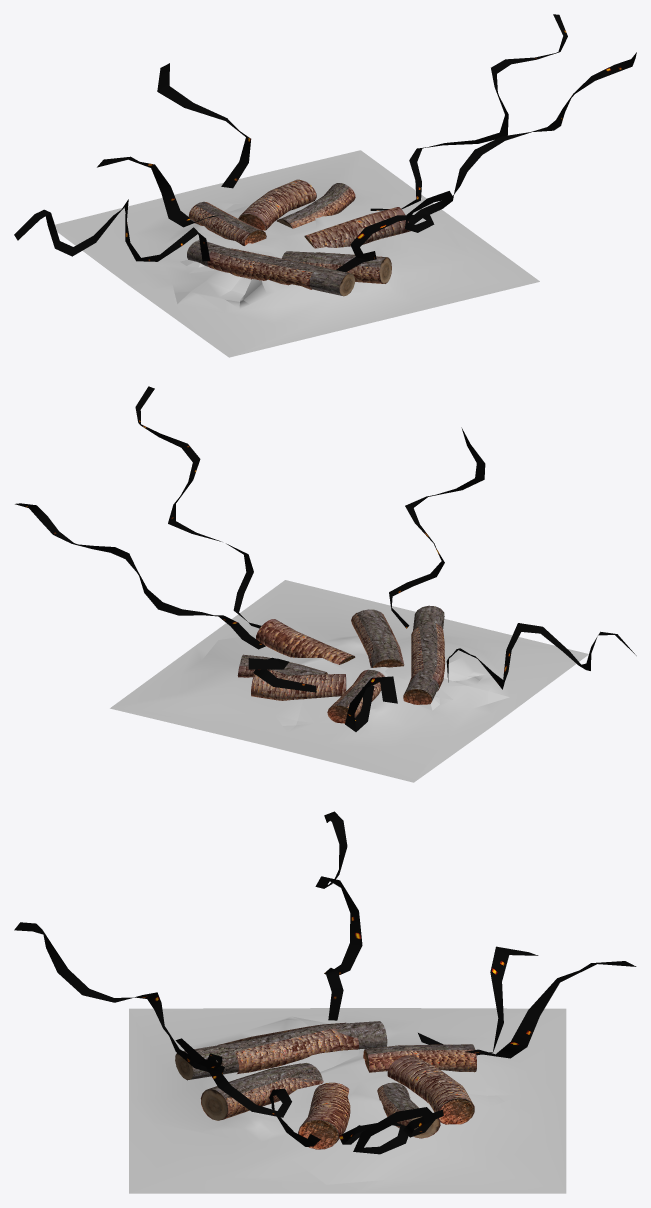
The model's file is Campfire.fbx.
The picture shows the model from 3 angles, top to bottom: view 1: azimuth 30°, elevation 25°; view 2: azimuth 150°, elevation 25°; view 3: azimuth 270°, elevation 25°; orthographic projection. The views are drawn at different scales.
Visible parts, largest first — view 1: Embers, Logs_02, Sparks_08, Logs_04, Logs_03, Sparks_06, Sparks_04, Sparks_010, Logs_06, Logs_01, Sparks_02, Logs_05 (+2 smaller); view 2: Embers, Logs_02, Logs_04, Logs_03, Logs_06, Sparks_010, Sparks_06, Sparks_04, Sparks_08, Sparks_012, Sparks_02, Logs_01 (+1 smaller); view 3: Embers, Logs_02, Logs_06, Logs_03, Logs_01, Sparks_08, Sparks_010, Sparks_06, Sparks_04, Logs_04, Sparks_02, Sparks_012 (+6 smaller).
Boxes of the visible parts, box(x1,y1,x2,y2) form: Embers: box(55, 150, 539, 357); Logs_02: box(187, 240, 350, 295); Sparks_08: box(14, 199, 210, 261); Logs_04: box(305, 207, 410, 248); Logs_03: box(238, 179, 316, 229); Sparks_06: box(408, 52, 636, 224); Sparks_04: box(336, 191, 453, 271); Sparks_010: box(370, 14, 567, 210); Logs_06: box(282, 251, 391, 283); Logs_01: box(188, 201, 266, 245); Sparks_02: box(157, 63, 251, 188); Logs_05: box(277, 183, 355, 228); Embers: box(110, 580, 588, 782); Logs_02: box(404, 605, 444, 700); Logs_04: box(256, 619, 354, 664); Logs_03: box(251, 673, 346, 700); Logs_06: box(351, 609, 404, 667); Sparks_010: box(15, 503, 265, 649); Sparks_06: box(135, 386, 261, 628); Sparks_04: box(389, 427, 485, 628); Sparks_08: box(446, 623, 636, 689); Sparks_012: box(345, 676, 397, 731); Sparks_02: box(248, 657, 316, 692); Logs_01: box(327, 669, 384, 718); Embers: box(129, 1008, 566, 1193); Logs_02: box(183, 1021, 387, 1079); Logs_06: box(200, 1063, 323, 1120); Logs_03: box(387, 1055, 474, 1123); Logs_01: box(364, 1044, 476, 1072); Sparks_08: box(315, 811, 362, 1020); Sparks_010: box(338, 1107, 443, 1154); Sparks_06: box(175, 1038, 320, 1146); Sparks_04: box(14, 922, 224, 1073); Logs_04: box(298, 1082, 350, 1149); Sparks_02: box(465, 961, 636, 1058); Sparks_012: box(418, 946, 538, 1055).
Bounding box in the file's own units: 2.64 × 0.8167 × 1.99.
